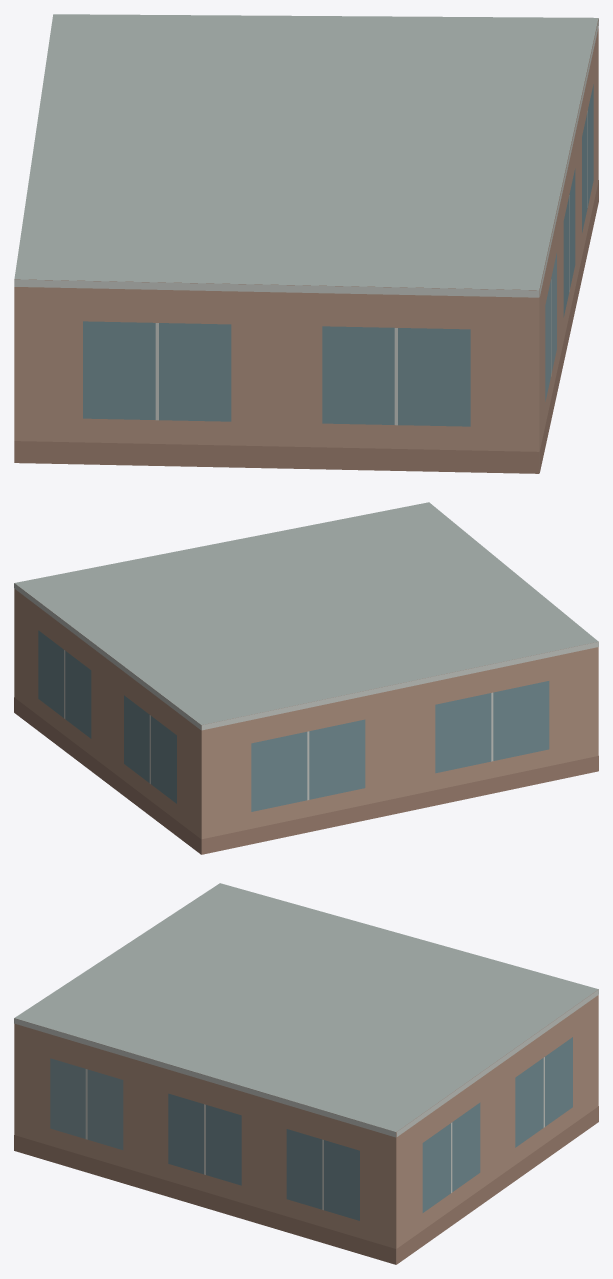
Rendered from survey-upis-32886127.glb.
The picture shows the model from 3 angles, top to bottom: view 1: azimuth 30°, elevation 25°; view 2: azimuth 150°, elevation 25°; view 3: azimuth 270°, elevation 25°; orthographic projection. The views are drawn at different scales.
Parts seen in each view (by area): view 1: survey-upis-32886127.tmp; view 2: survey-upis-32886127.tmp; view 3: survey-upis-32886127.tmp.
Part boxes in pixels (x1=…): survey-upis-32886127.tmp: x1=14, y1=14, x2=598, y2=473; survey-upis-32886127.tmp: x1=14, y1=502, x2=598, y2=854; survey-upis-32886127.tmp: x1=14, y1=883, x2=598, y2=1264.
Size of the model in its own units: 12.29 by 3.05 by 12.19.
